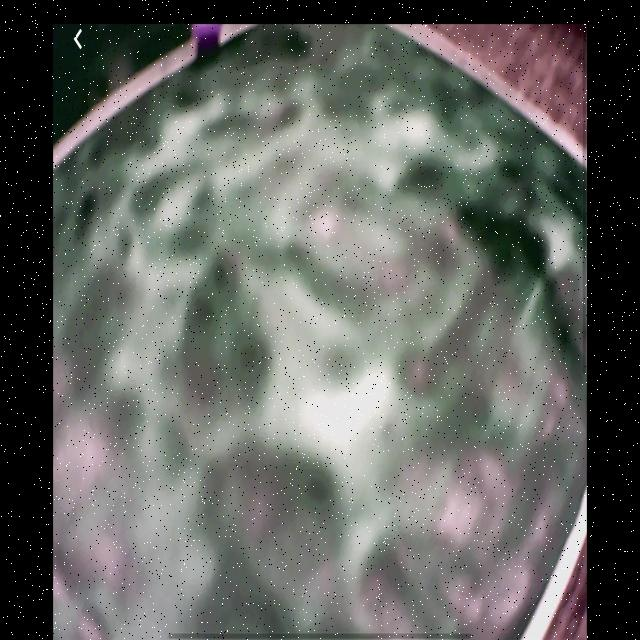ball: (191, 23, 223, 61)
